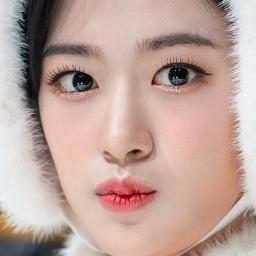face: (48, 0, 236, 250)
